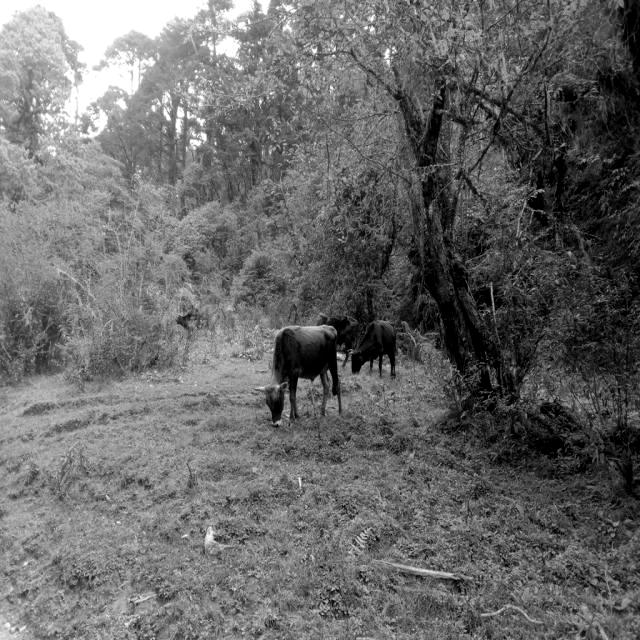COW: (258, 325, 342, 426), (351, 320, 395, 379)
